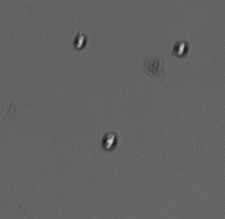Living Cell: (99, 130, 119, 152), (171, 39, 188, 58), (72, 32, 86, 51)
